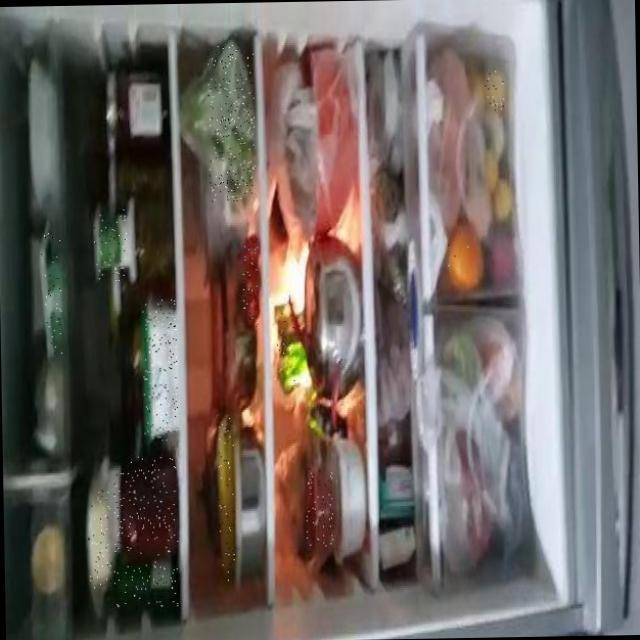Lechuga/Endivia: (207, 43, 256, 200)
Limón: (484, 68, 505, 109), (491, 176, 510, 219)
Plátano: (217, 415, 236, 581)
Queso: (142, 298, 178, 440), (86, 484, 112, 590)
Tomate: (112, 455, 178, 555)
Yogur: (94, 208, 127, 281)
cream: (40, 229, 62, 353)
mineral water: (107, 558, 178, 606), (273, 307, 298, 388)
orange: (447, 226, 480, 293)
tomato paste: (306, 466, 335, 549), (242, 236, 260, 326)
